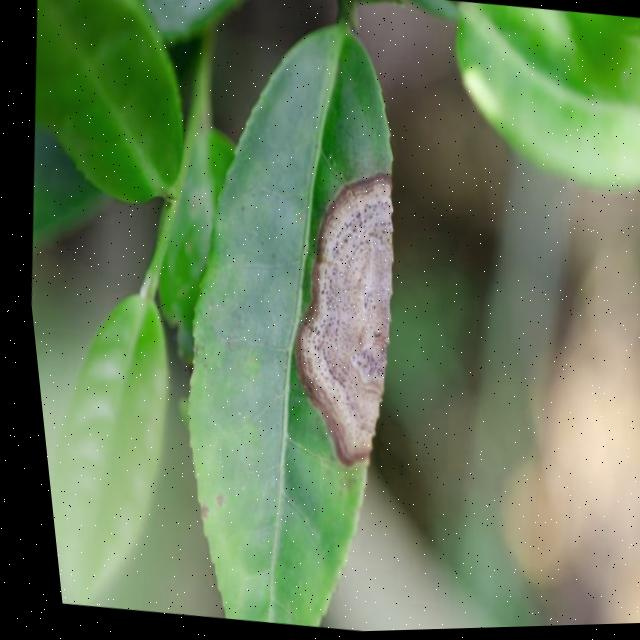Tea cloud leaf blight: (264, 165, 429, 476)
